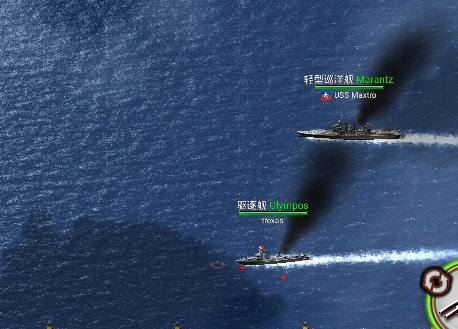ship: (297, 123, 405, 142), (235, 247, 313, 265)
